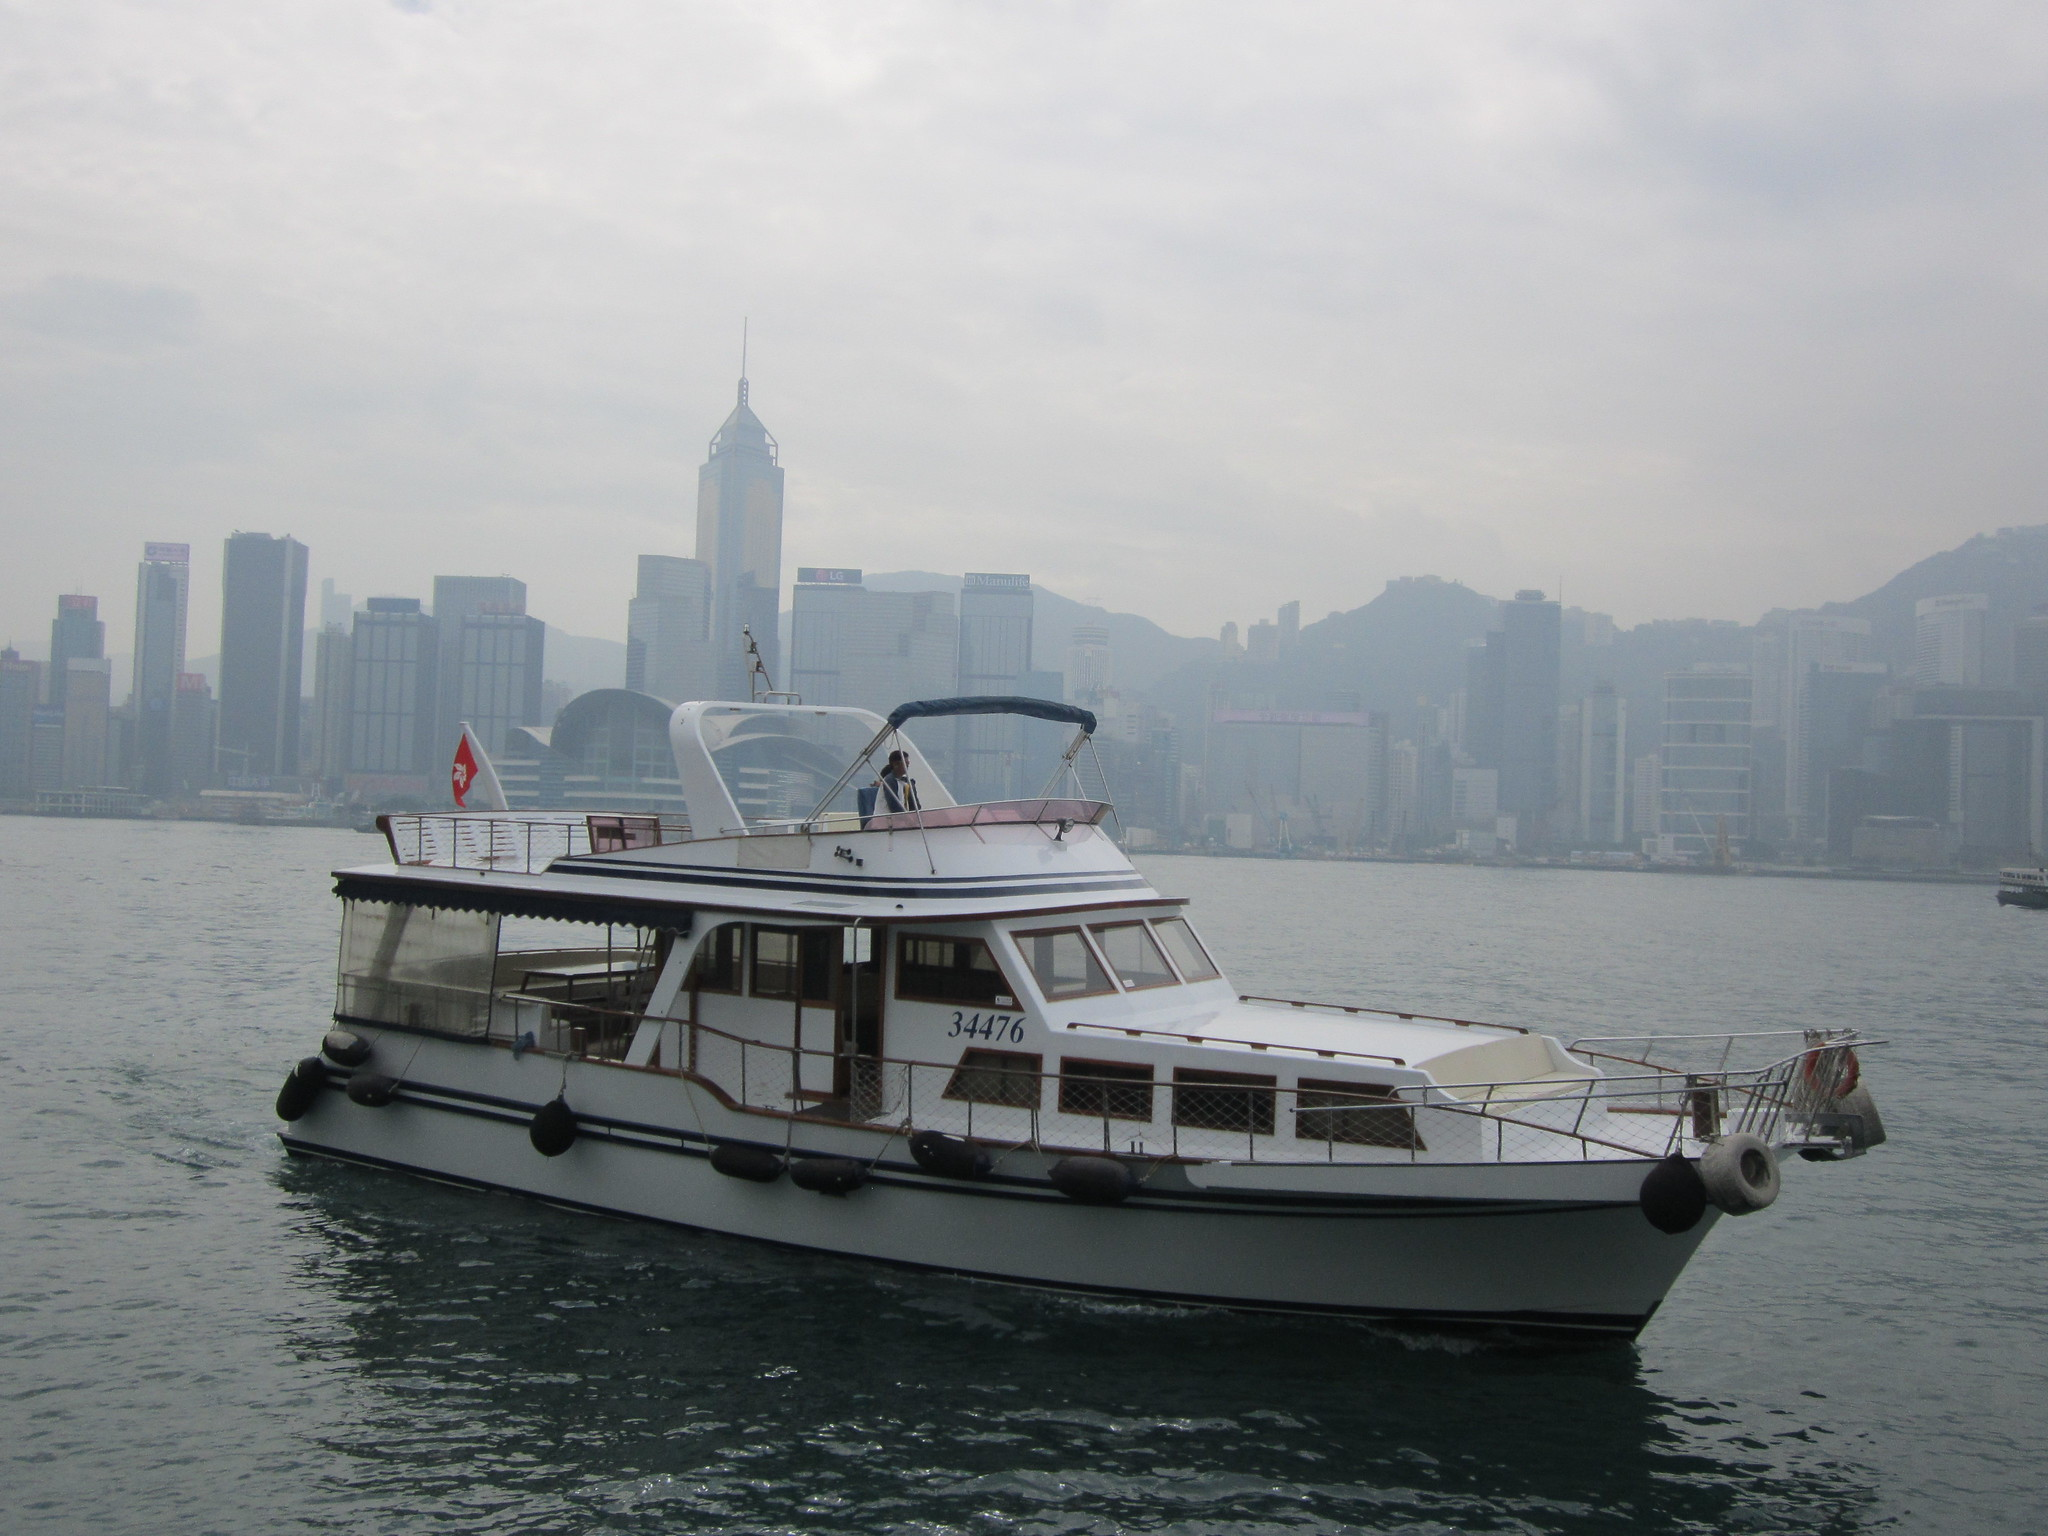boat: (261, 637, 1892, 1350)
